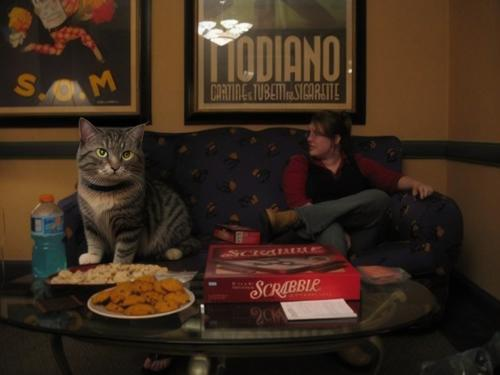bottle: (31, 192, 72, 280), (150, 206, 174, 266), (117, 178, 132, 218)
cat: (75, 116, 200, 264)
person: (263, 110, 436, 255)
person/foot: (263, 208, 285, 233)
person/hand: (411, 182, 432, 199)
person/head: (306, 110, 343, 158)
sofa: (54, 124, 470, 287)
